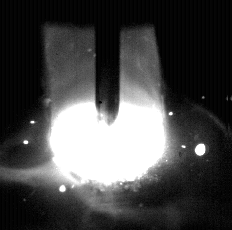arame: (96, 0, 121, 126)
poca: (47, 0, 169, 230)
